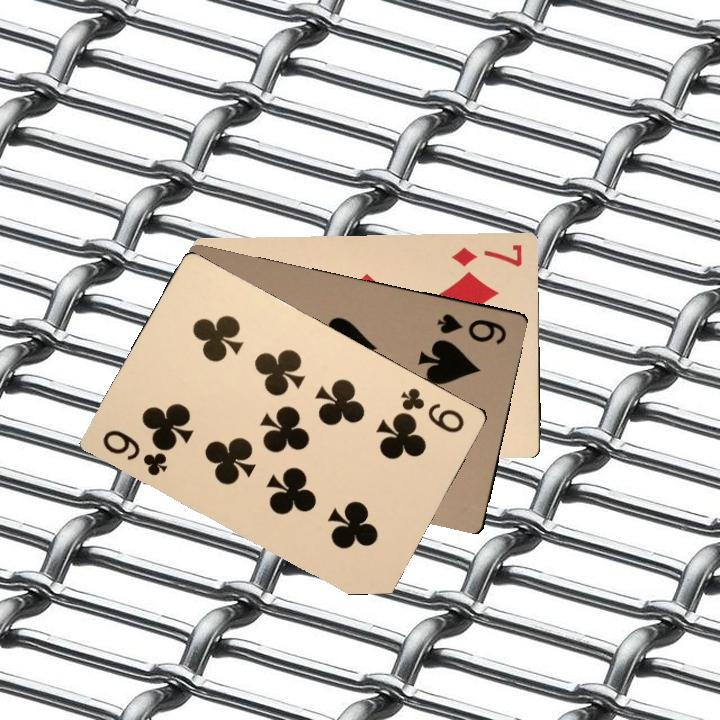6s: (433, 309, 509, 347)
7d: (448, 241, 525, 270)
9c: (98, 425, 170, 479), (396, 383, 467, 436)
